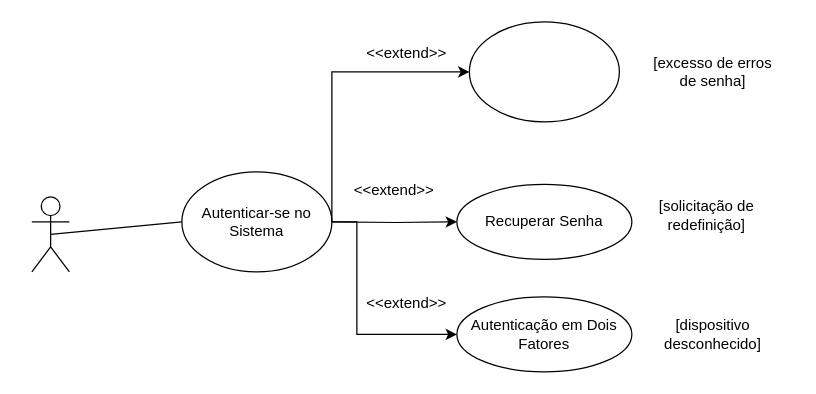
Some shapes in this 816 by 394 pixel diagram are drawn without their labels. Here are the shapes that lost their labels. From the top down, the centre of each, then its label:
At pixel 543 71: "Bloquear Acesso por Tentativas Inválidas".
At pixel 50 234: "Visitante".
